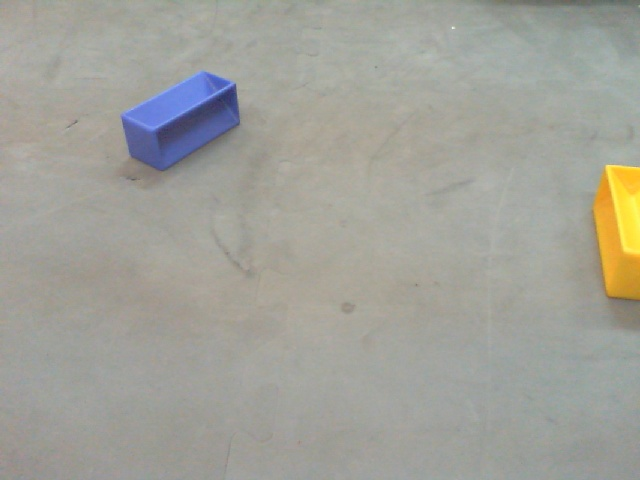BlueSample: (117, 69, 243, 175)
YellowSample: (588, 158, 640, 305)
